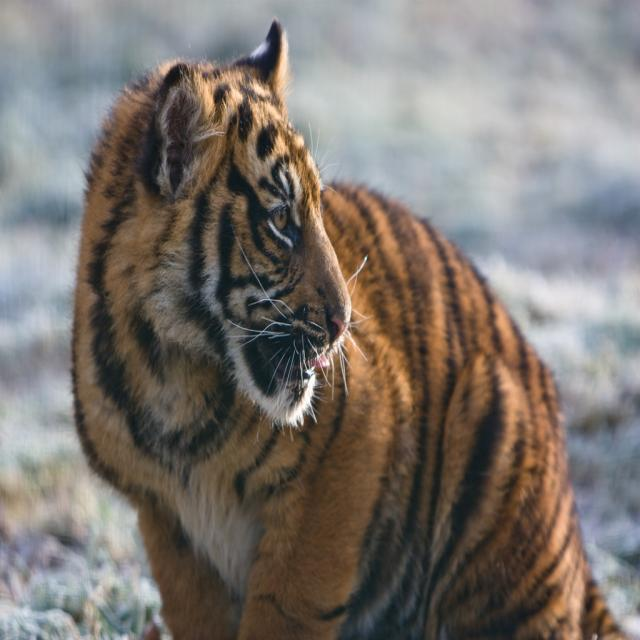Tiger: (70, 20, 638, 639)
